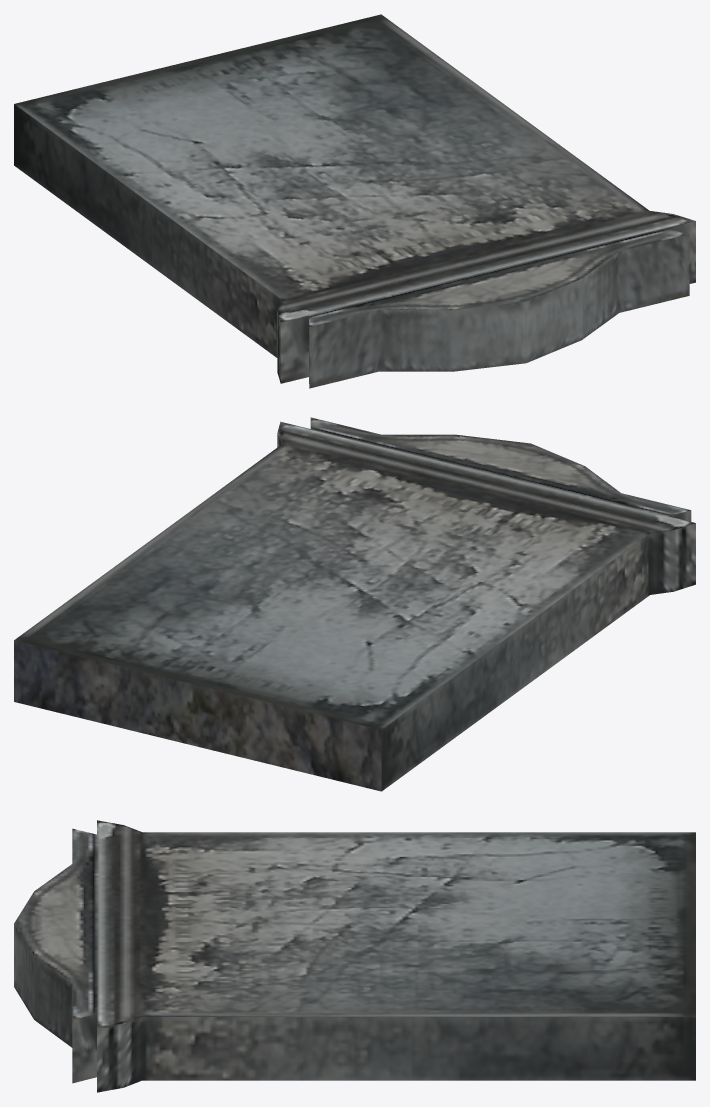
File: Gravestone07.FBX
3 renders of one model, top to bottom at view 1: azimuth 30°, elevation 25°; view 2: azimuth 150°, elevation 25°; view 3: azimuth 270°, elevation 25°, orthographic. The views are drawn at different scales.
Parts seen in each view (by area): view 1: Gravestone07; view 2: Gravestone07; view 3: Gravestone07.
Part boxes in pixels (bbox=[...]): Gravestone07: bbox=[14, 14, 695, 388]; Gravestone07: bbox=[14, 417, 695, 791]; Gravestone07: bbox=[14, 820, 695, 1092].
Size of the model in its own units: 55.46 by 7.85 by 76.51.
Materials: 1 (1 with a texture image).
